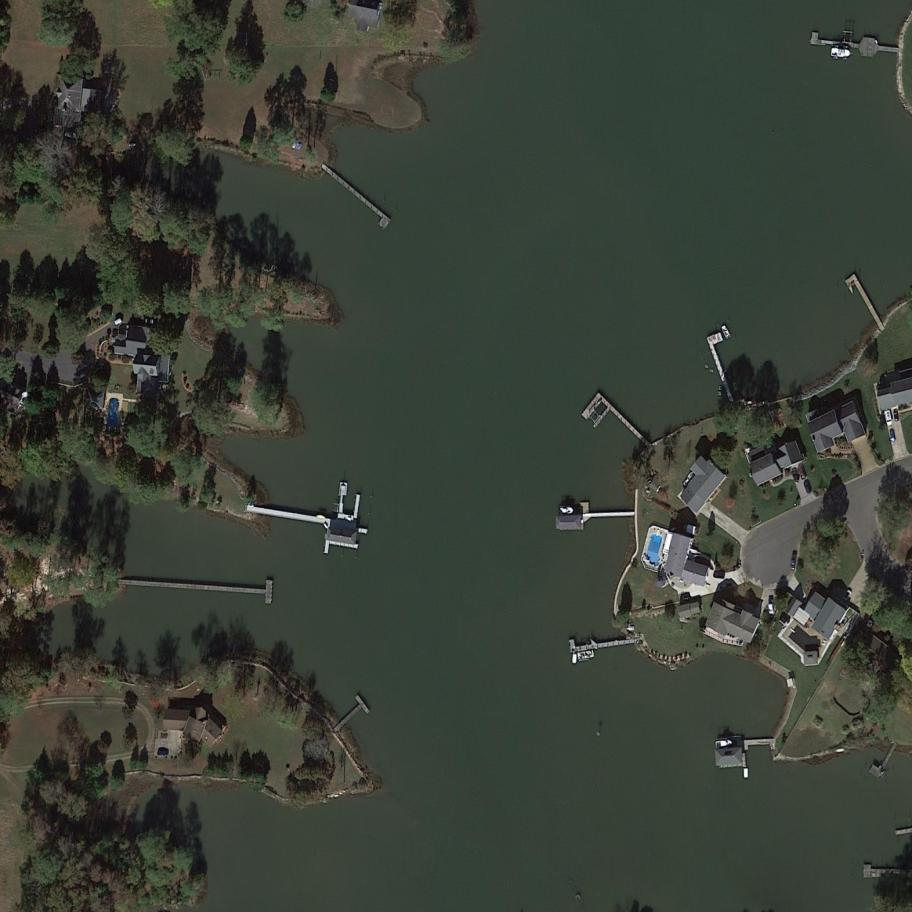ship: (829, 46, 853, 59), (680, 469, 696, 488), (719, 324, 734, 343), (714, 737, 734, 750), (557, 505, 575, 517)
small-vehicle: (882, 409, 894, 428), (840, 588, 854, 604), (790, 467, 802, 484), (802, 480, 814, 495), (797, 464, 808, 480), (788, 553, 797, 572), (888, 429, 897, 443), (768, 599, 775, 615), (892, 410, 900, 423), (157, 750, 170, 756)
